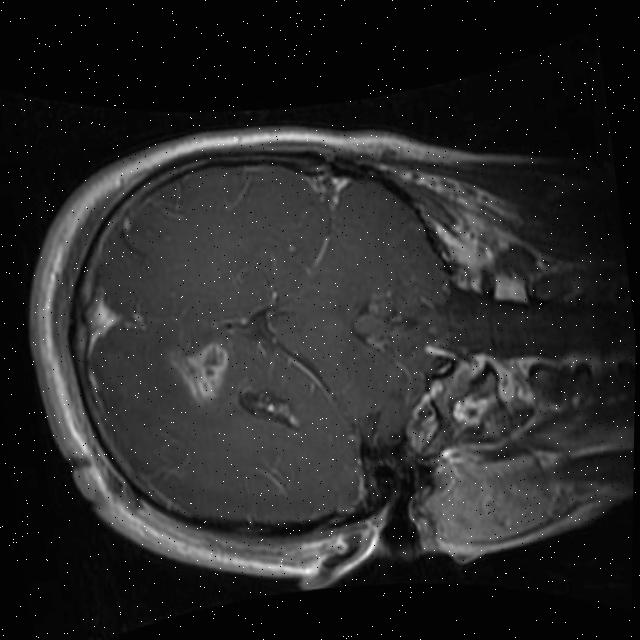Glioma: (166, 334, 239, 410), (251, 388, 302, 433)
